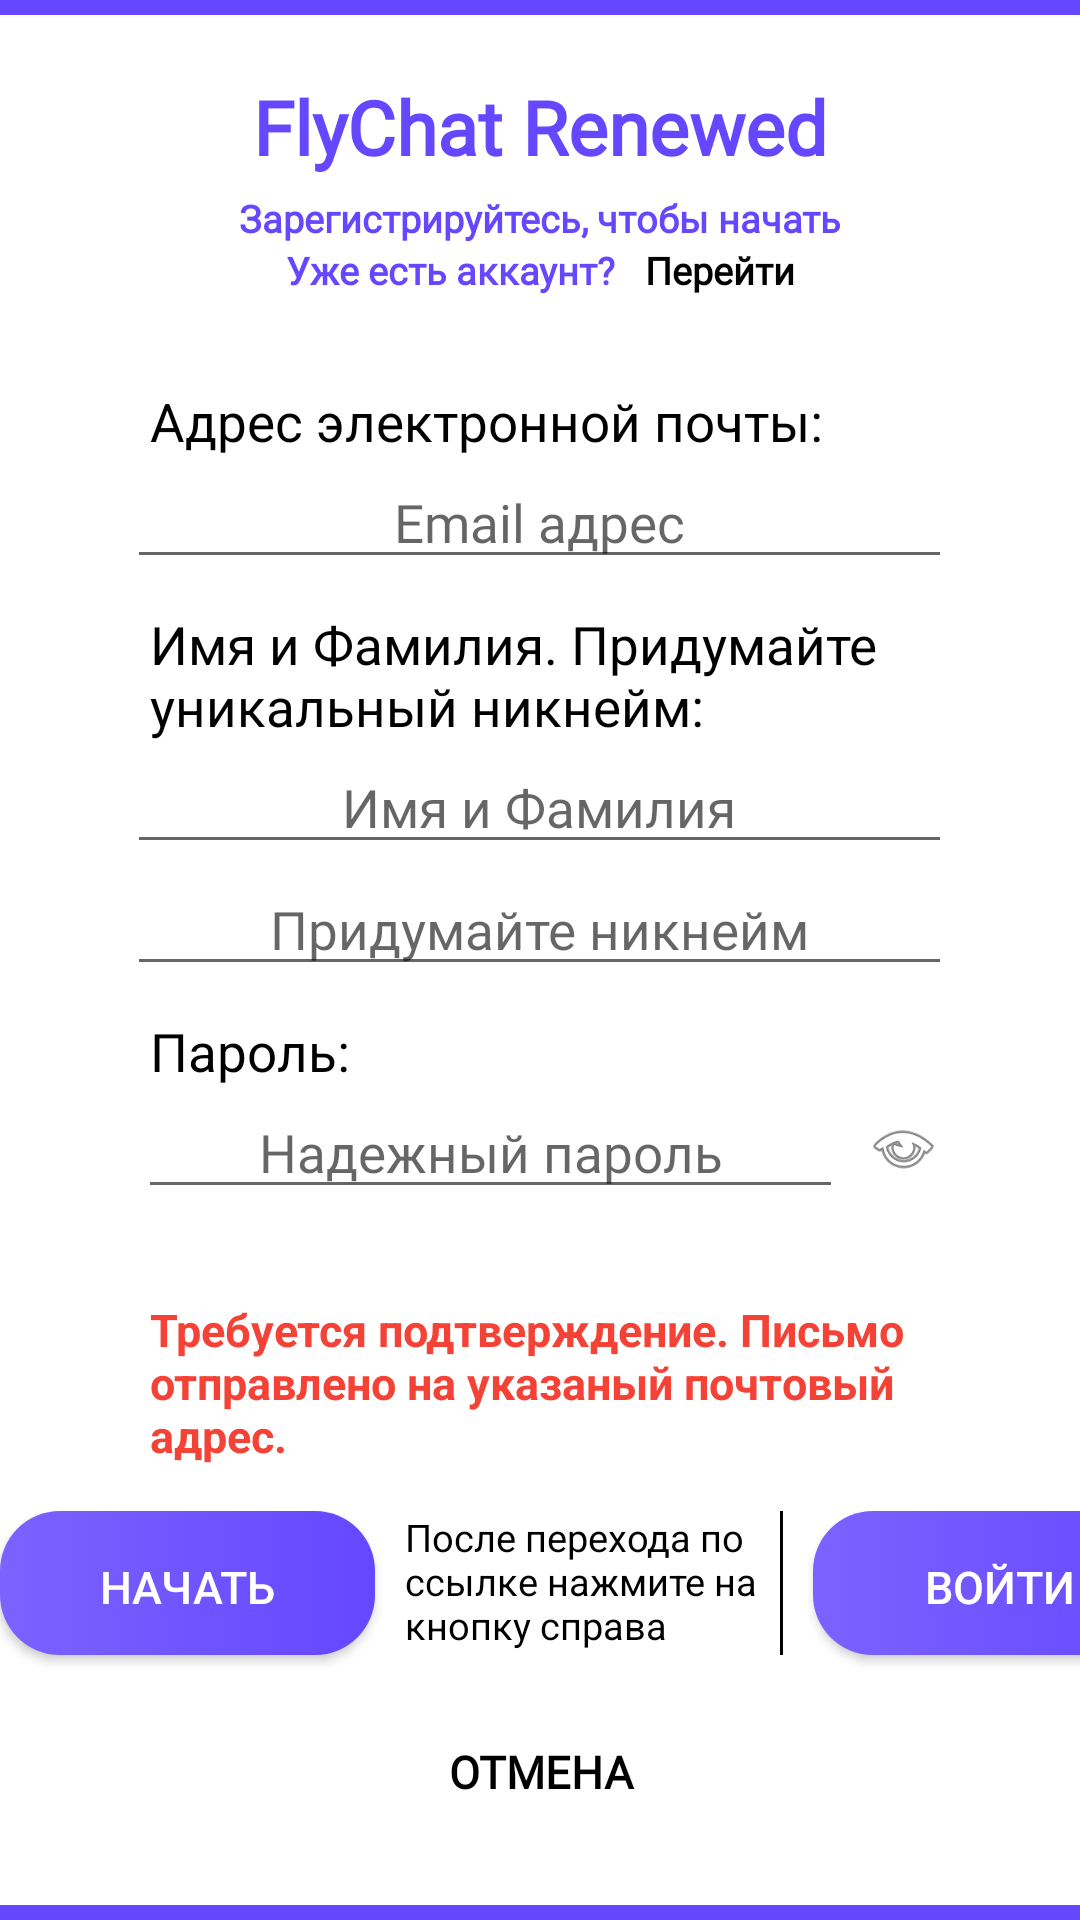

Where icons sit on this 1080×1920 app screen, as (x1, y1, x2, y2):
view: (873, 1130, 934, 1169)
